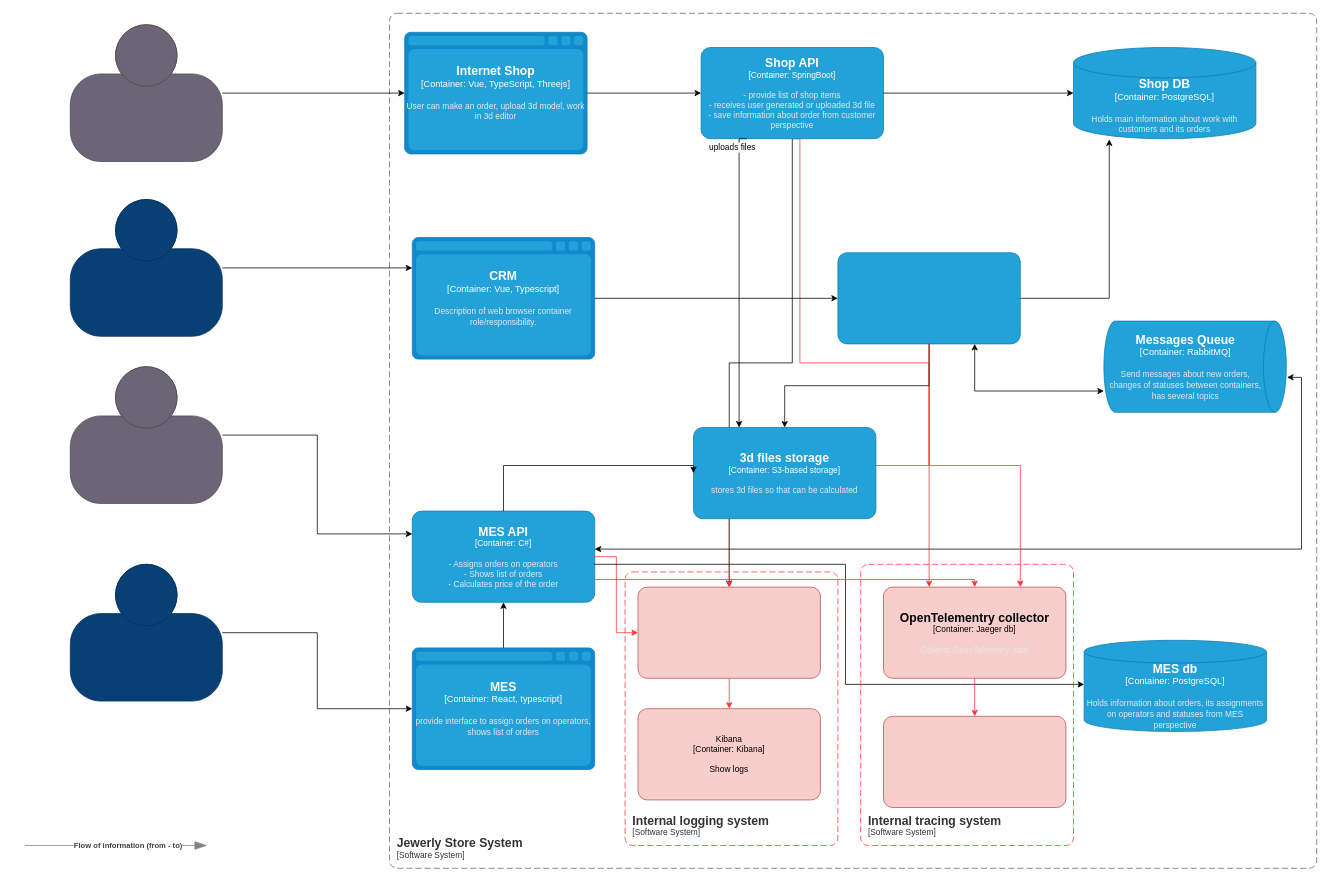
The diagram is 1330 pixels wide and 882 high, and some of its shapes have lost their labels. The shapes that lost their labels are listed below. From the top down, each one's centre as x and y in pixels, then its label:
(146,93): Customer [Person] Description of external person.
(146,267): Seller [Person] Operates with order, confirms manufacturing for the user
(928,298): CRM API [Container: SpringBoot] Description of container role/responsibility.
(146,435): API user [Person] Description of external person.
(146,632): Operator [Person] Takes order in work, manufactures jewerly
(728,632): Elasticsearch [Container: Elasticsearch] Store logs
(974,762): Jaeger UI [Container: Jaeger UI] Show traces and logs
